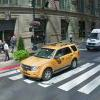Crosswalk: (81, 63, 99, 100)
